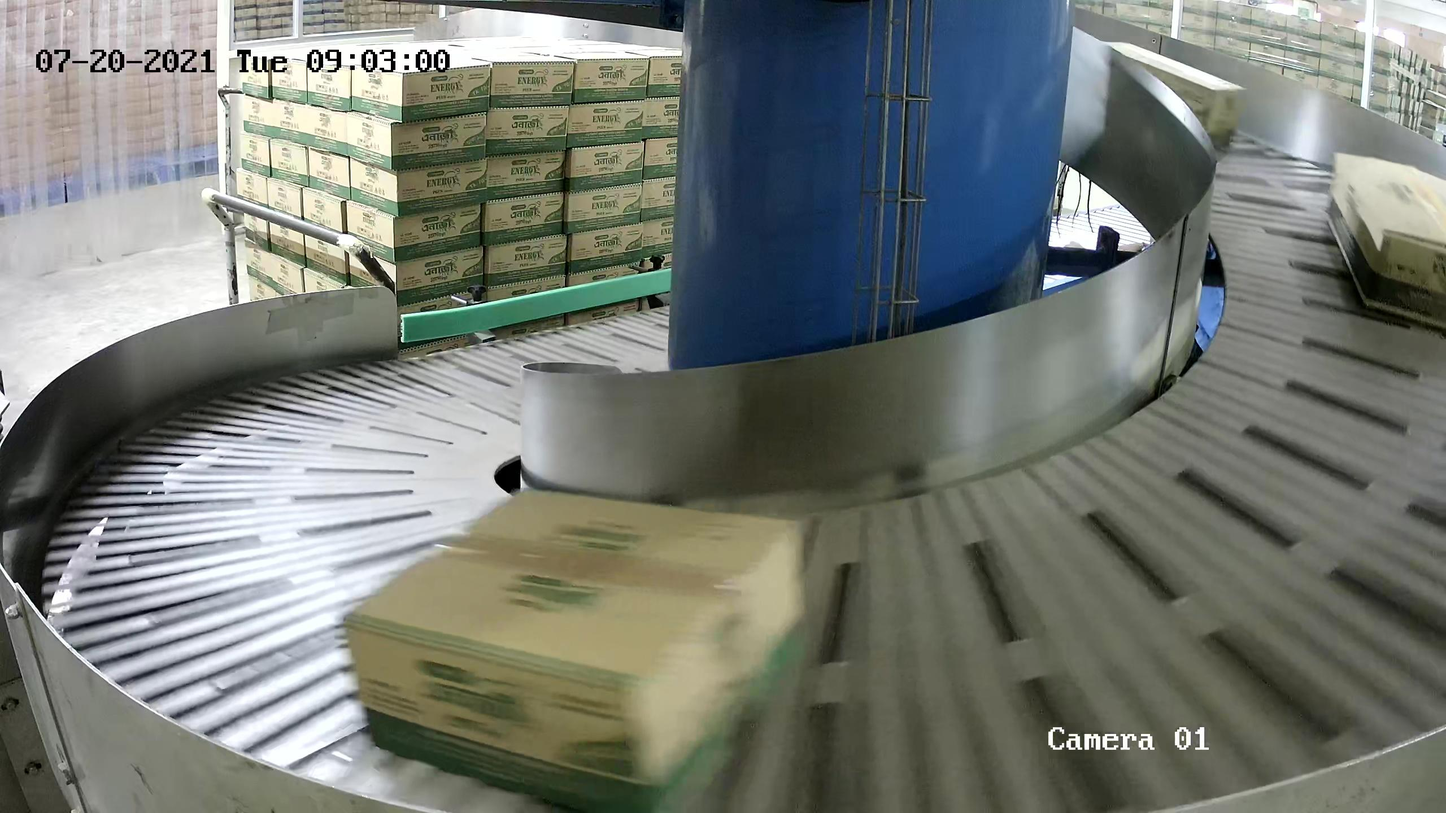Box: (341, 487, 812, 813), (1323, 151, 1446, 330)
